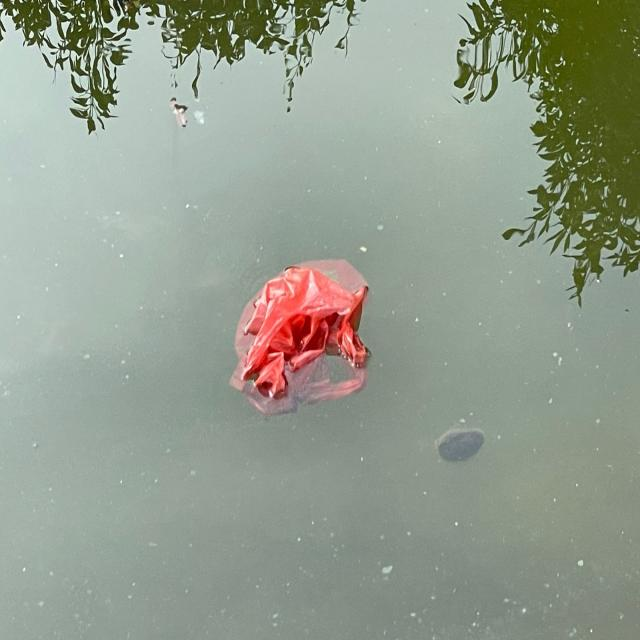Kantong Plastik: (230, 252, 374, 428)
